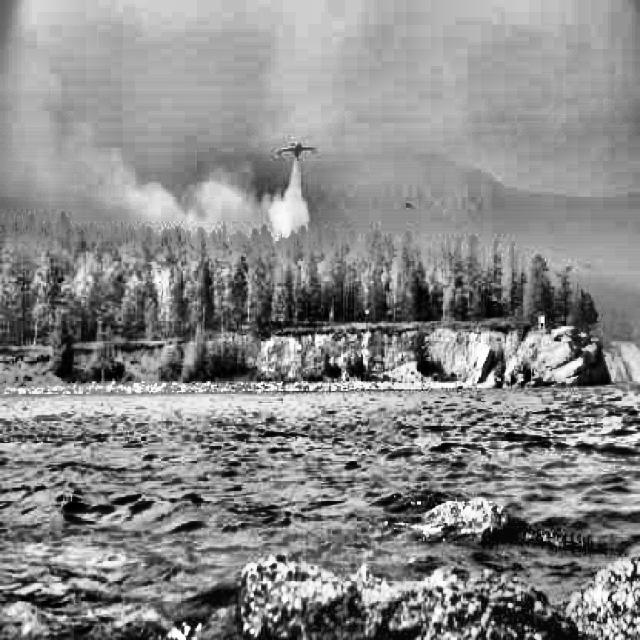Be200: (276, 142, 318, 158)
